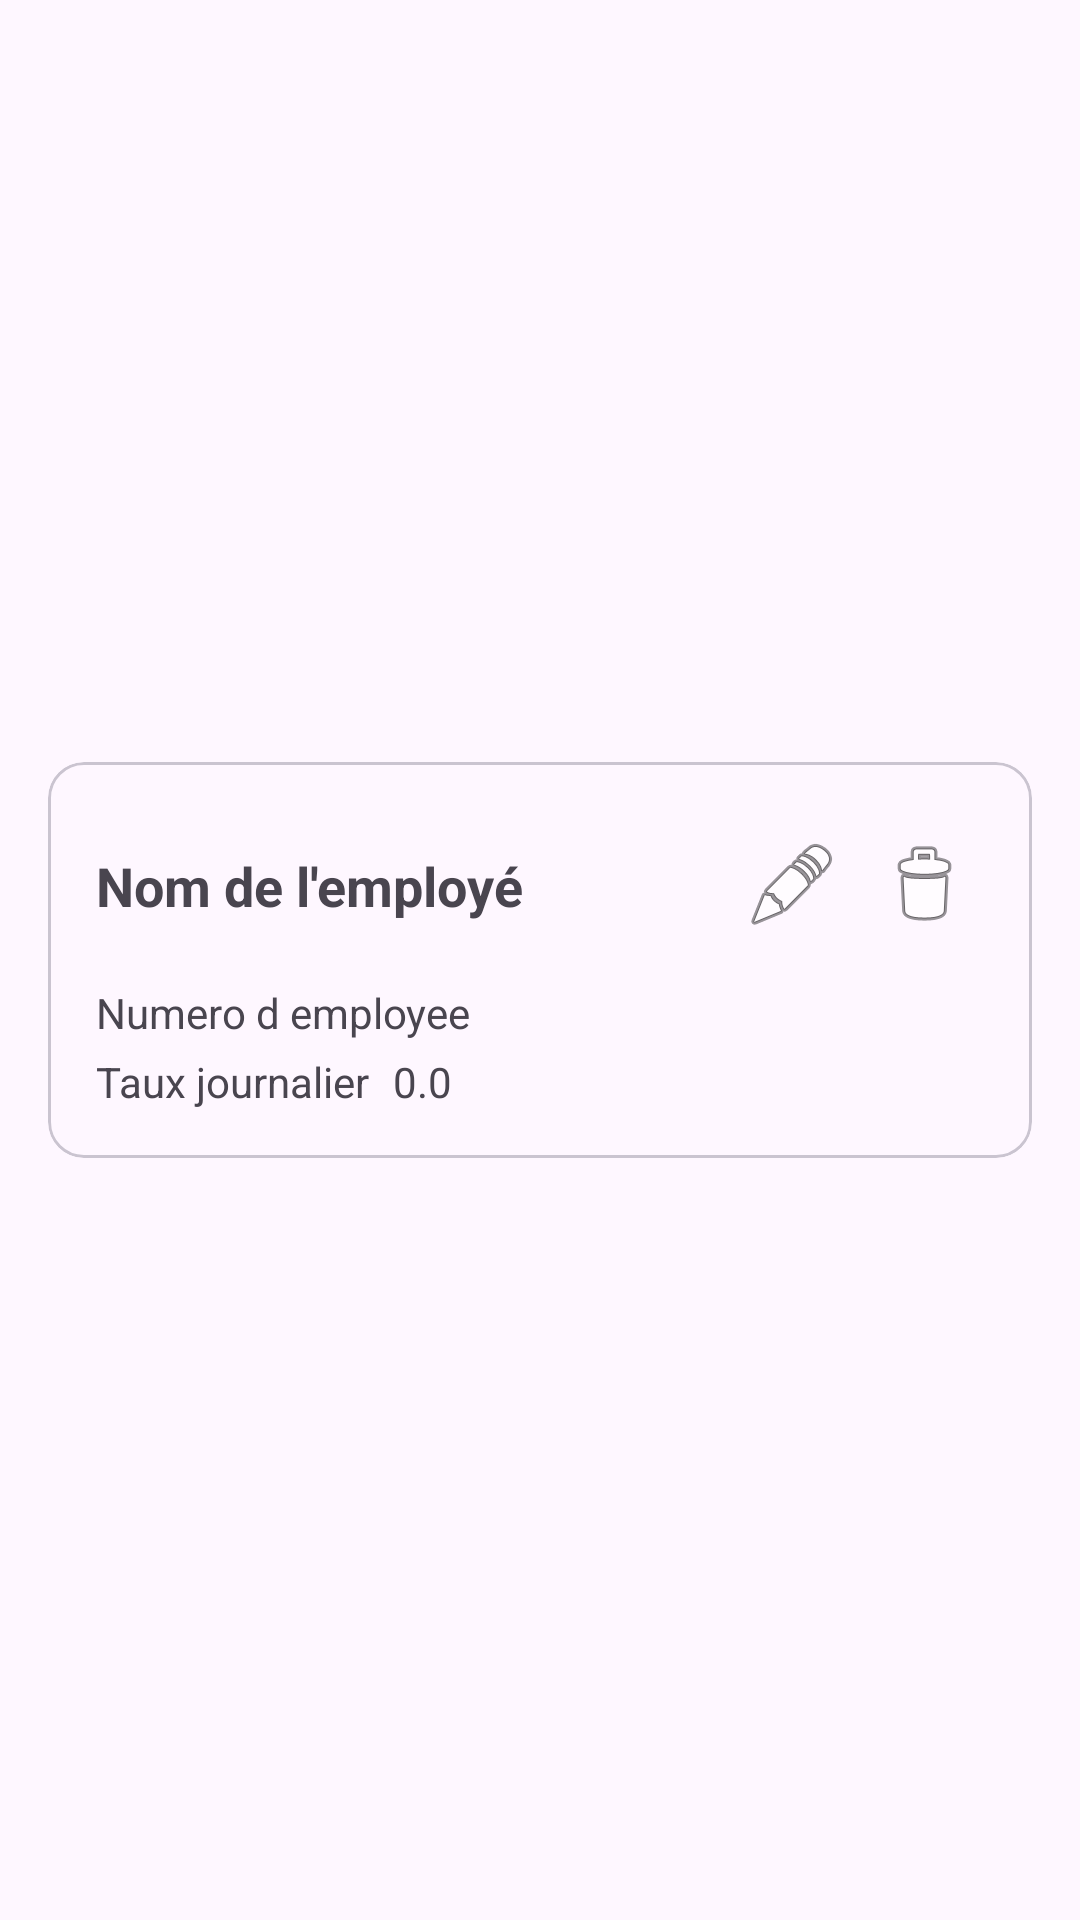

Where icons sit on this 1080x1920 app screen, as (x1, y1, x2, y2):
delete: (897, 846, 952, 921)
edit: (751, 844, 832, 925)
